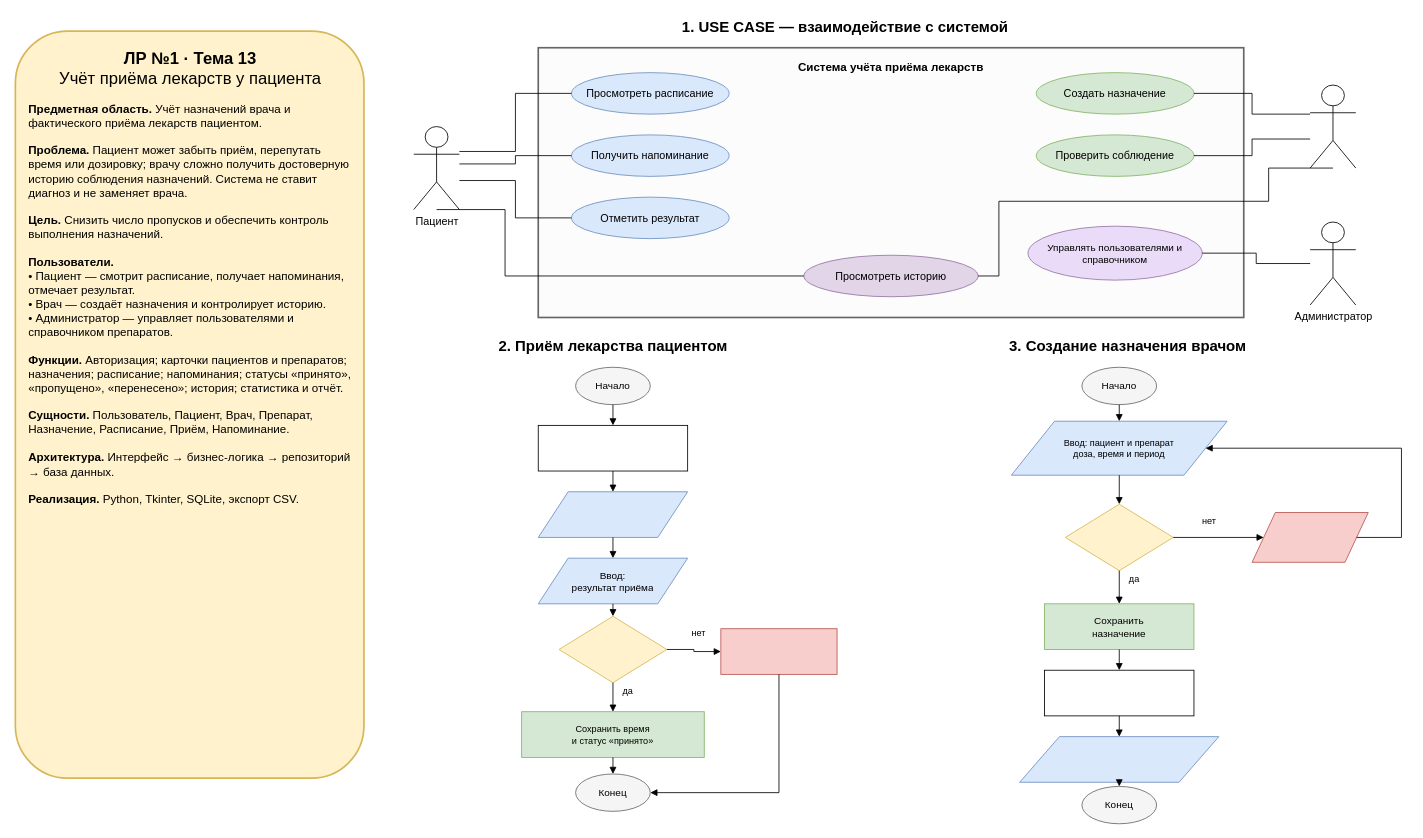
This 1423x838 diagram has some shape labels left out. The centre of each missing label's shape, as x and y in pixels:
Врач: the point at 1332,126
Вывод: напоминание: the point at 612,514
Вывод: уведомление пациенту: the point at 1119,759
Данные корректны?: the point at 1118,537
Исправить данные: the point at 1309,537
Лекарство принято?: the point at 612,649
Наступило время приёма: the point at 612,448
Сохранить статус «пропущено»: the point at 778,651
Сформировать расписание: the point at 1119,692
